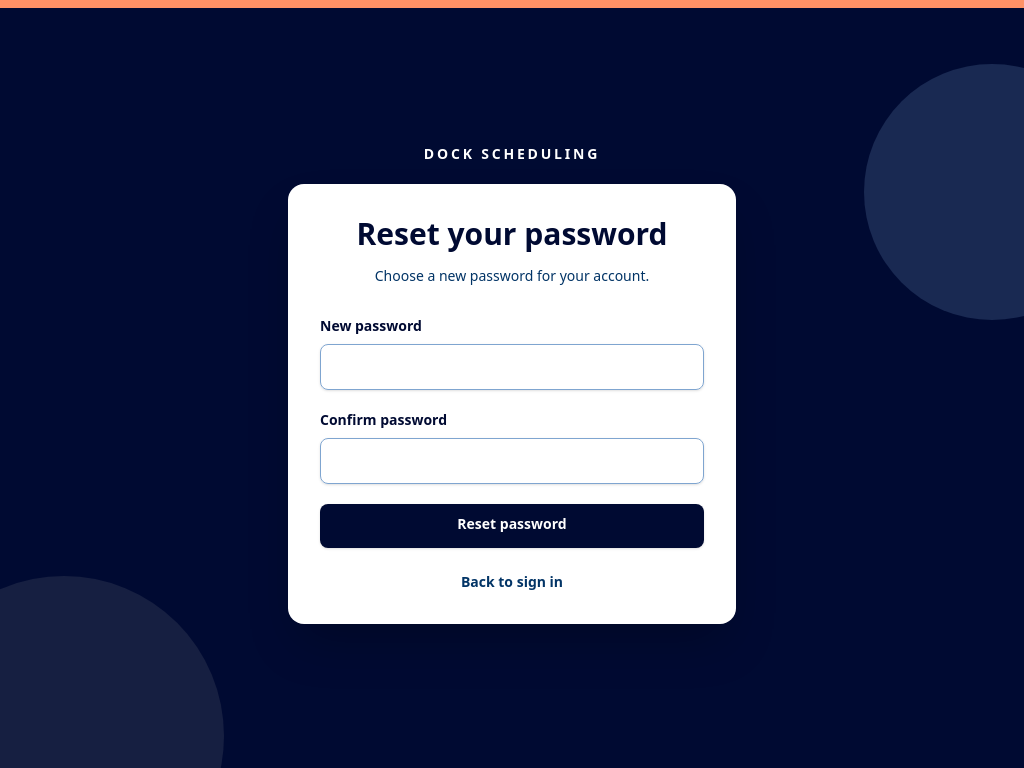
Test: ResetPasswordPage › requires a new password and connects the error through ARIA
The image size is (1024, 768).
Type "simple phrase" into the password field labelled "Confirm password" at (512, 461), box [320,438,704,484]
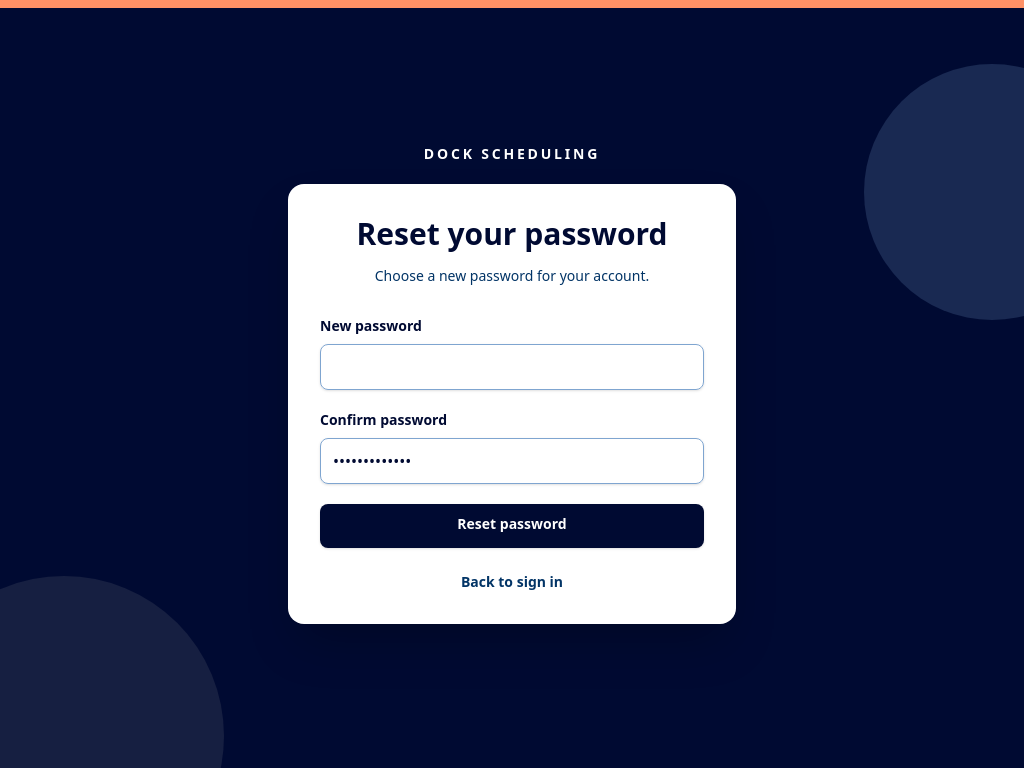
Click the button "Reset password" at (512, 526), box [320,504,704,548]
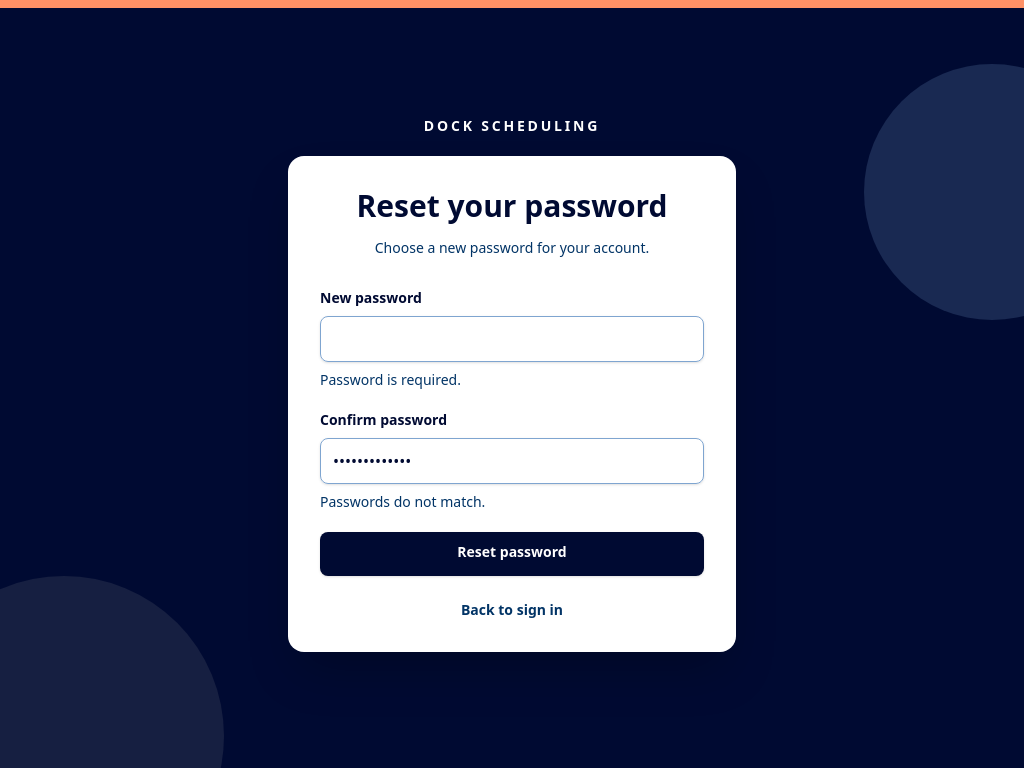
expect the text "Password is required." is shown: met, box [320,370,461,389]
